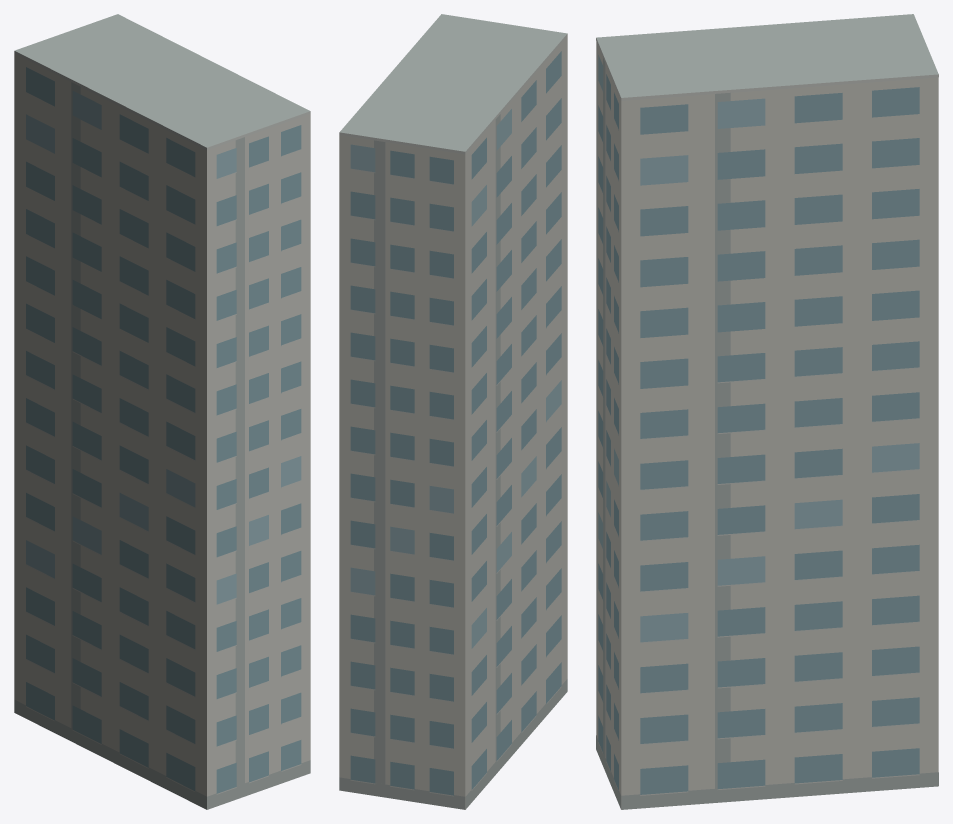
Rendered from residential-058c954c-f1f5-4442-8e13-948974b1993a.glb.
The picture shows the model from 3 angles, left to right: view 1: azimuth 30°, elevation 25°; view 2: azimuth 150°, elevation 25°; view 3: azimuth 270°, elevation 25°; orthographic projection. The views are drawn at different scales.
Visible parts, largest first — view 1: residential-058c954c-f1f5-4442-8e13-948974b1993a.tmp; view 2: residential-058c954c-f1f5-4442-8e13-948974b1993a.tmp; view 3: residential-058c954c-f1f5-4442-8e13-948974b1993a.tmp.
Part boxes in pixels (bbox=[...]): residential-058c954c-f1f5-4442-8e13-948974b1993a.tmp: bbox=[14, 14, 310, 809]; residential-058c954c-f1f5-4442-8e13-948974b1993a.tmp: bbox=[339, 14, 567, 809]; residential-058c954c-f1f5-4442-8e13-948974b1993a.tmp: bbox=[596, 14, 938, 809].
Bounding box in the file's own units: 15.19 × 60 × 26.18.
